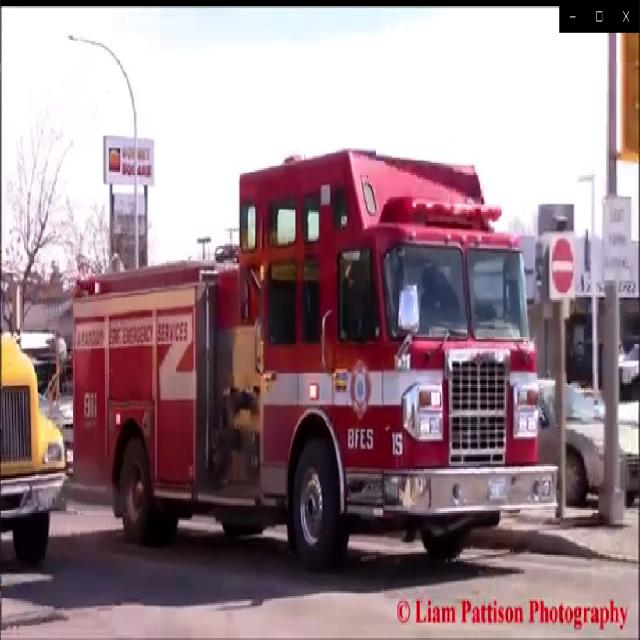emergency: (65, 144, 566, 571)
